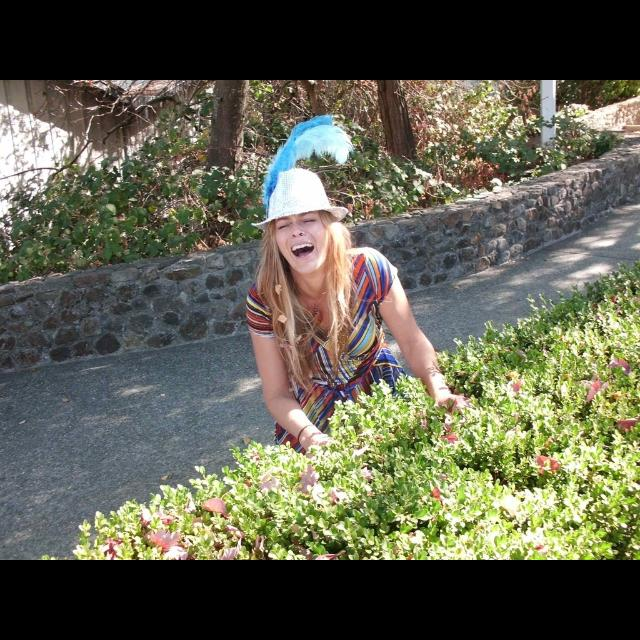Flower: (200, 496, 237, 520), (580, 375, 608, 405), (300, 462, 320, 496), (150, 530, 180, 550), (536, 452, 560, 476), (608, 354, 632, 378), (250, 471, 276, 491), (220, 538, 240, 560), (529, 532, 549, 552), (165, 545, 191, 559), (422, 486, 442, 502), (618, 418, 640, 430), (444, 429, 458, 445), (510, 381, 526, 395)
